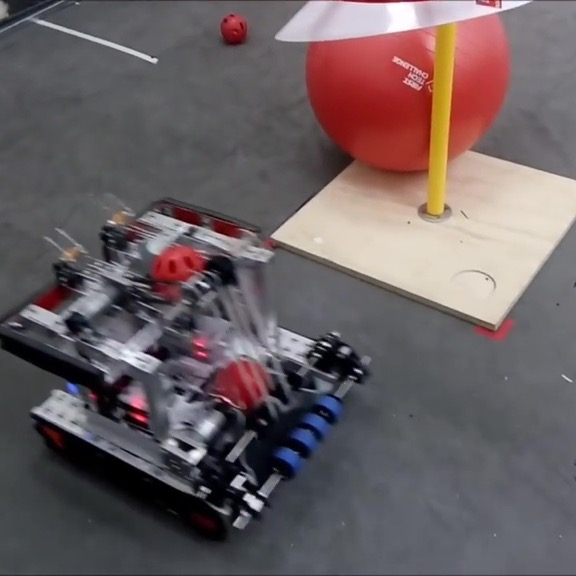ball: (150, 243, 203, 296), (216, 356, 268, 407), (216, 11, 250, 47)
robot: (0, 191, 380, 547)
yogaball: (303, 2, 512, 177)
